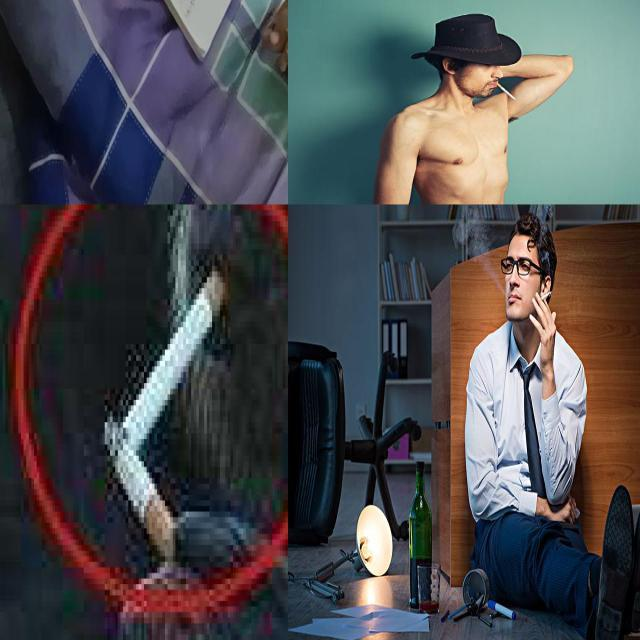smoking: (120, 262, 232, 453), (102, 413, 180, 562), (278, 0, 288, 73), (495, 81, 517, 101), (539, 289, 553, 301)
